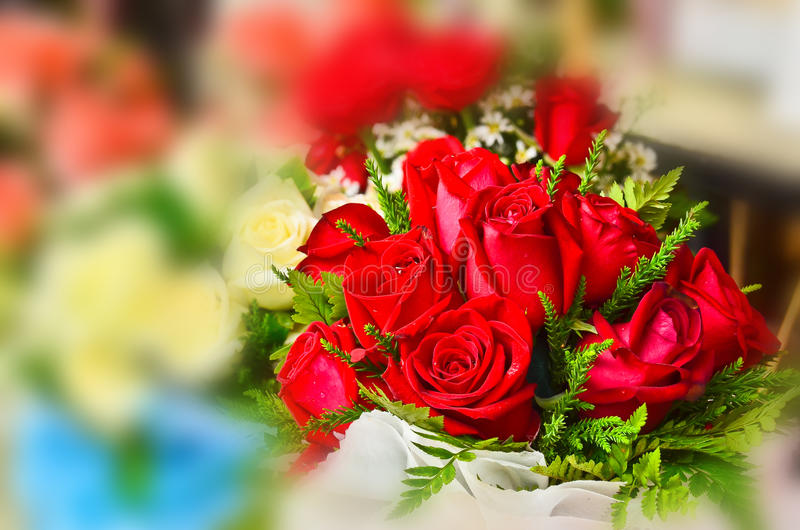RedRose: (386, 307, 546, 443), (568, 280, 713, 430), (654, 242, 792, 393), (548, 186, 678, 323), (458, 189, 569, 328), (340, 233, 455, 361), (266, 315, 370, 444), (403, 128, 514, 240), (292, 200, 394, 292), (537, 76, 614, 165)
